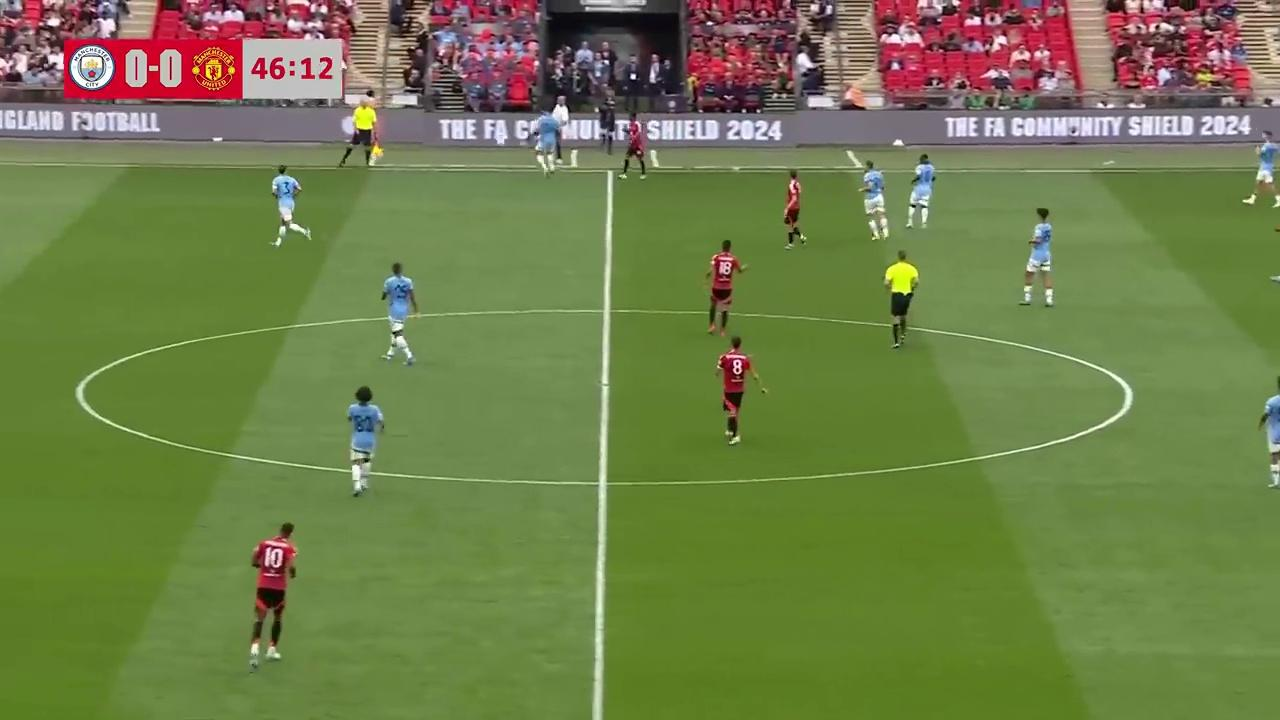player: (247, 522, 298, 669), (715, 335, 770, 446), (346, 385, 384, 496), (380, 261, 419, 366), (704, 239, 744, 336), (1020, 207, 1055, 307), (270, 165, 311, 248), (1243, 134, 1279, 207), (1257, 376, 1280, 489), (858, 160, 888, 240), (906, 151, 936, 228), (531, 110, 560, 177), (783, 171, 807, 247), (619, 118, 648, 180)
referee: (884, 249, 920, 348), (339, 101, 383, 167)
